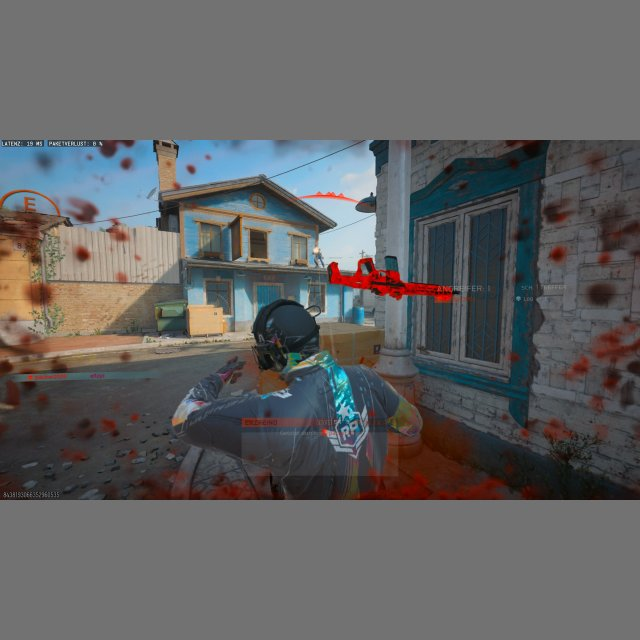head: (251, 298, 321, 370)
player: (168, 296, 426, 499), (312, 246, 323, 268)
